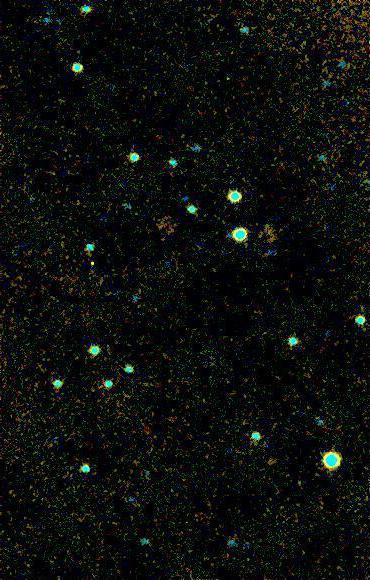star: (257, 447, 287, 477)
